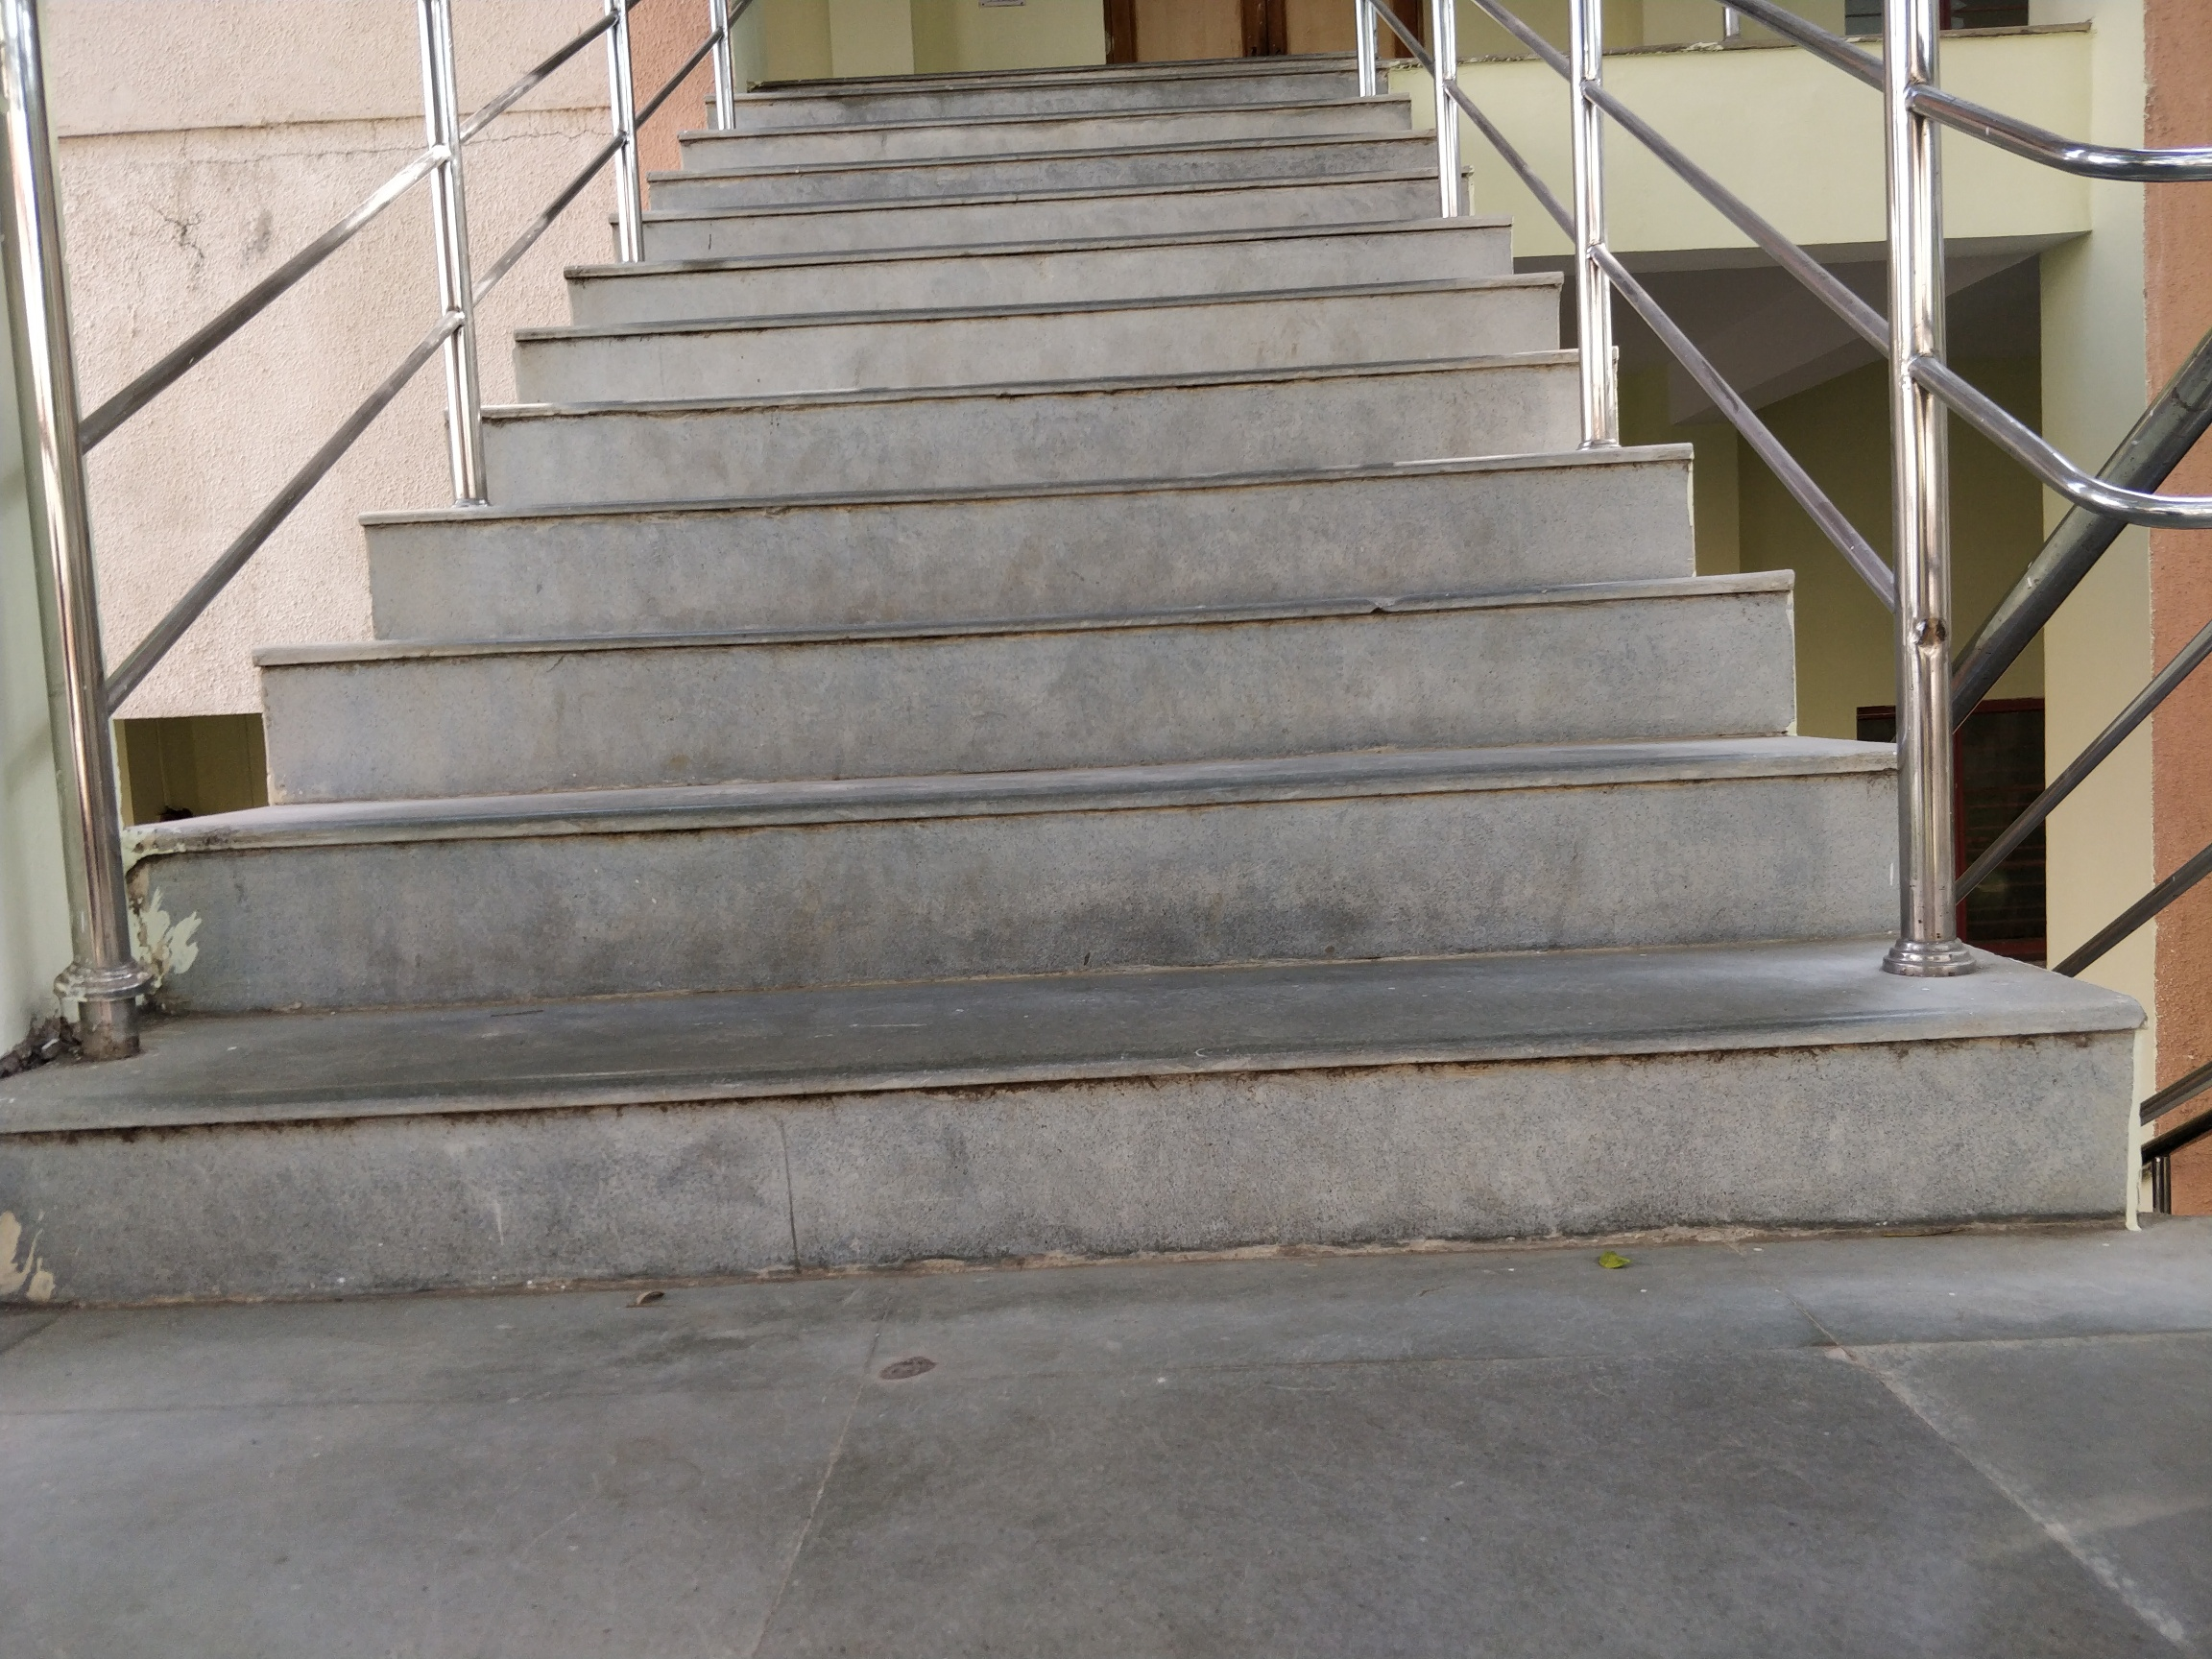stairs_up: (12, 364, 2172, 1288)
